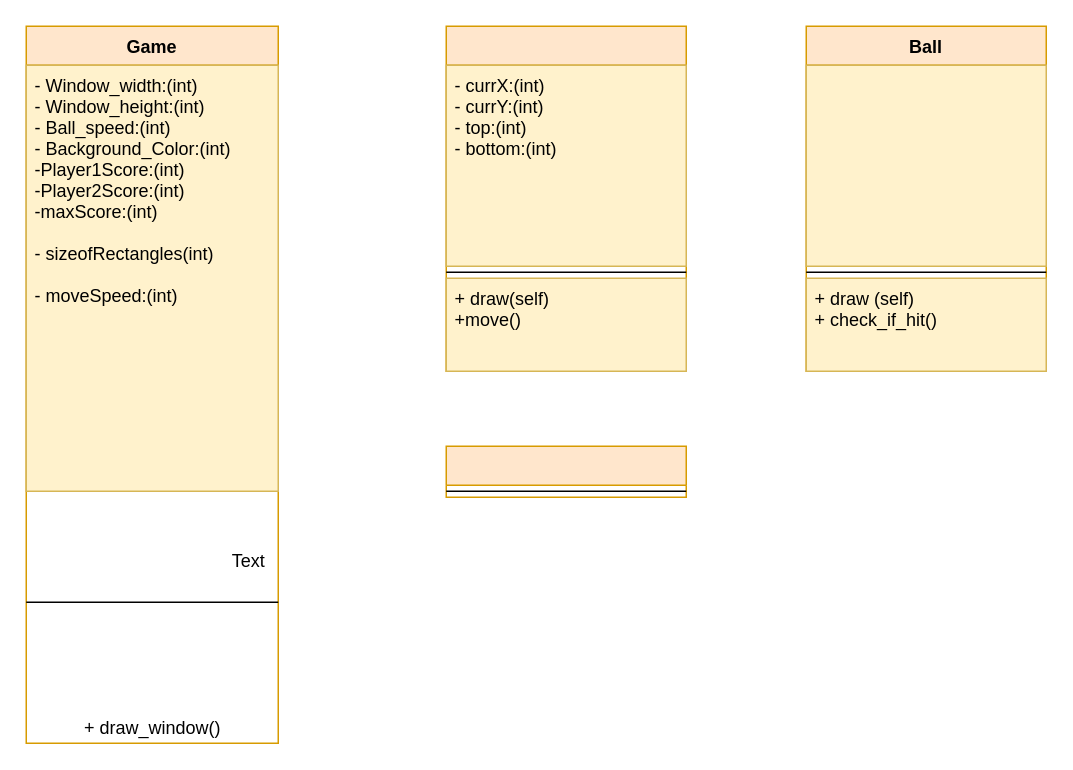
The diagram is 1073 pixels wide and 770 high, and some of its shapes have lost their labels. Here are the shapes that lost their labels. From the top down, the box of each, then its label:
(805, 64, 1046, 266): - currX:(int) - currY:(int) -
(445, 25, 686, 371): Player
(445, 445, 686, 497): Main
